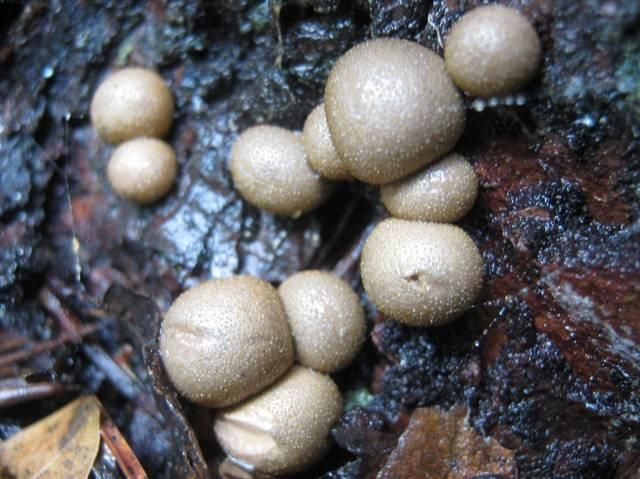poisonous_mushroom: (152, 2, 542, 477), (157, 268, 366, 478), (322, 36, 465, 184), (157, 273, 294, 408), (211, 364, 343, 478), (358, 217, 484, 327), (442, 2, 542, 102), (228, 122, 331, 219), (277, 268, 366, 372), (378, 152, 479, 221), (88, 65, 174, 144), (106, 135, 177, 204)
